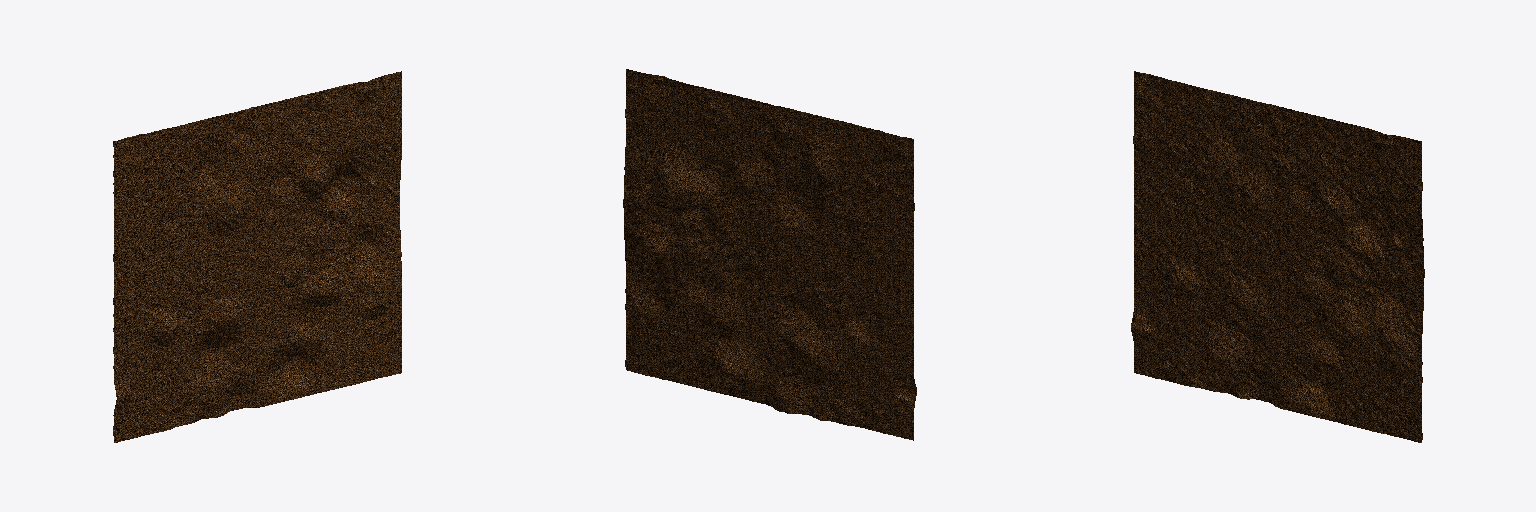
3 views of the same model, side by side, from view 1: azimuth 30°, elevation 25°; view 2: azimuth 150°, elevation 25°; view 3: azimuth 330°, elevation 25° (orthographic).
Size of the model in its own units: 16384 by 16384 by 1184.
Materials: 1 (1 with a texture image).